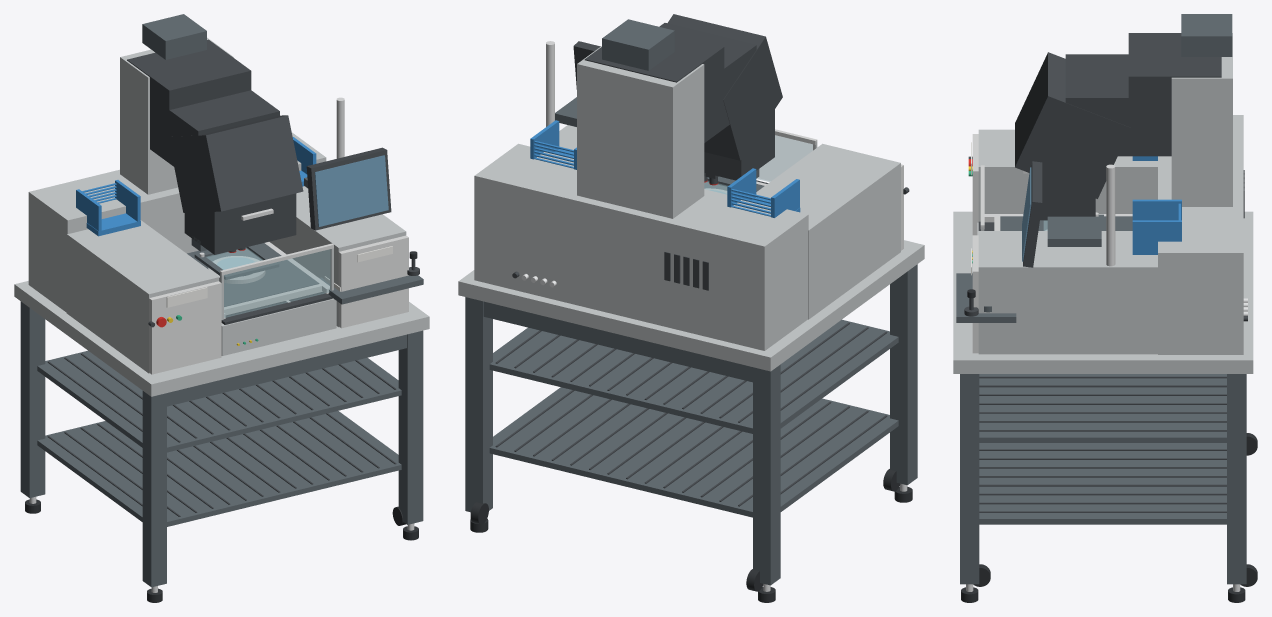
The model's file is ma6-gen4.glb.
3 views of the same model, side by side, from view 1: azimuth 30°, elevation 25°; view 2: azimuth 150°, elevation 25°; view 3: azimuth 270°, elevation 25° (orthographic). The views are drawn at different scales.
Visible parts, largest first — view 1: shelf_285, shelf_585, left_console, sloped_lamp_cover, stand_worktop, rear_cabinet, lamp_back, front_panel_L, leg_LF, leg_RF, leg_LB, guard_window (+19 smaller); view 2: rear_cabinet, shelf_285, shelf_585, rear_optical_column, left_console, stand_worktop, leg_LB, leg_LF, leg_RB, sloped_lamp_cover, cross_member_-445, lamp_back (+8 smaller); view 3: right_console, shelf_285, shelf_585, rear_cabinet, stand_worktop, sloped_lamp_cover, rear_optical_column, lamp_back, left_console, lamp_horizontal, leg_RB, leg_RF (+27 smaller).
Part boxes in pixels (box(x1,y1,x2,y2)): shelf_285: box(37, 411, 401, 526); shelf_585: box(37, 350, 401, 452); left_console: box(66, 220, 218, 373); sloped_lamp_cover: box(168, 115, 303, 212); stand_worktop: box(14, 281, 429, 396); rear_cabinet: box(28, 132, 326, 312); lamp_back: box(127, 39, 251, 159); front_panel_L: box(149, 281, 221, 374); leg_LF: box(142, 391, 166, 587); leg_RF: box(398, 330, 423, 524); leg_LB: box(20, 301, 45, 497); guard_window: box(224, 249, 330, 317); rear_cabinet: box(474, 143, 808, 350); shelf_285: box(489, 387, 898, 517); shelf_585: box(489, 319, 898, 433); rear_optical_column: box(577, 46, 704, 218); left_console: box(756, 143, 900, 319); stand_worktop: box(458, 240, 924, 371); leg_LB: box(753, 364, 780, 585); leg_LF: box(890, 264, 917, 485); leg_RB: box(465, 297, 492, 512); sloped_lamp_cover: box(667, 14, 782, 160); cross_member_-445: box(483, 301, 752, 382); lamp_back: box(584, 35, 724, 139); right_console: box(978, 231, 1157, 354); shelf_285: box(979, 443, 1226, 524); shelf_585: box(979, 374, 1226, 442); rear_cabinet: box(1158, 115, 1243, 354); stand_worktop: box(953, 211, 1253, 373); sloped_lamp_cover: box(1015, 52, 1130, 198); rear_optical_column: box(1171, 33, 1232, 206); lamp_back: box(1128, 33, 1221, 153); left_console: box(978, 129, 1157, 221); lamp_horizontal: box(1065, 54, 1171, 156); leg_RB: box(1227, 374, 1246, 584); leg_RF: box(960, 374, 979, 584).
Size of the model in its own units: 1.17 by 1.86 by 1.02.
